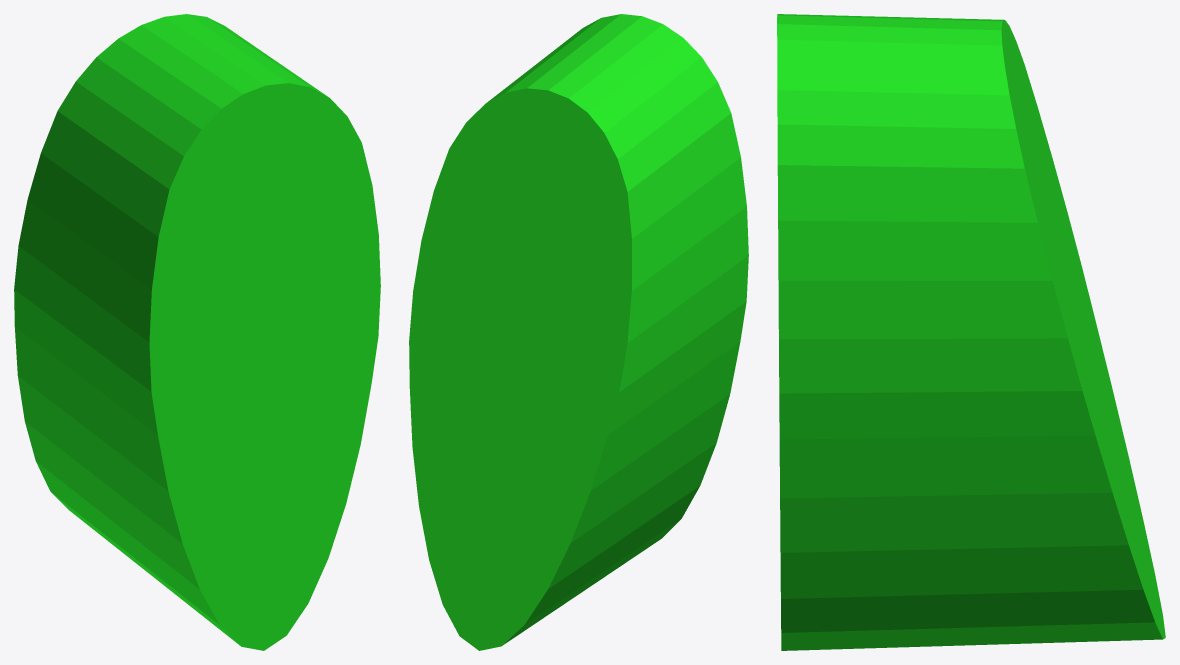
Rendered from food_dispenser_R-button.glb.
3 renders of one model, left to right at view 1: azimuth 30°, elevation 25°; view 2: azimuth 150°, elevation 25°; view 3: azimuth 270°, elevation 25°, orthographic. The views are drawn at different scales.
Parts seen in each view (by area): view 1: Cylinder.017; view 2: Cylinder.017; view 3: Cylinder.017.
Boxes of the visible parts, left/top/right/bottom form: Cylinder.017: left=14, top=14, right=380, bottom=650; Cylinder.017: left=409, top=14, right=748, bottom=650; Cylinder.017: left=777, top=14, right=1165, bottom=650.
Bounding box in the file's own units: 0.0758 × 0.1775 × 0.1.
